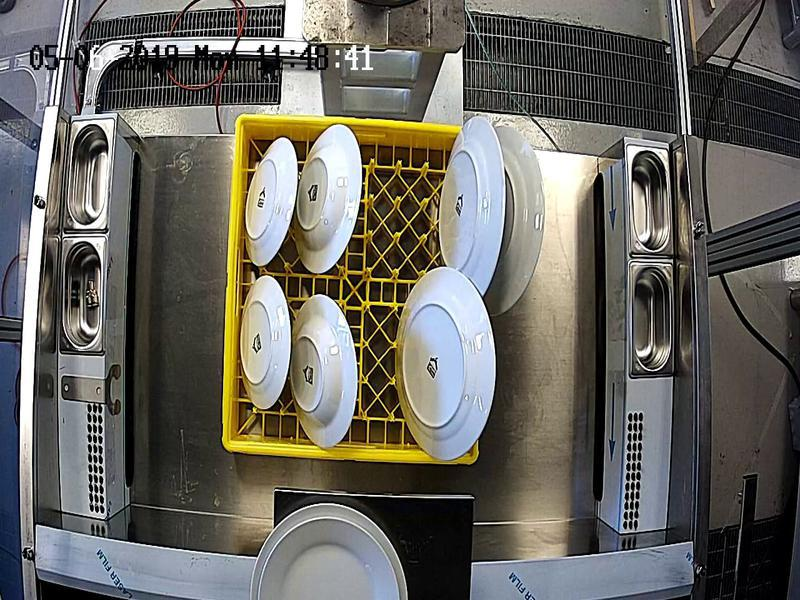Dish: (436, 113, 504, 301)
Inclined_dish: (395, 265, 498, 459), (290, 295, 359, 451), (293, 123, 361, 271), (493, 123, 544, 317), (244, 137, 296, 275), (238, 273, 290, 411)
